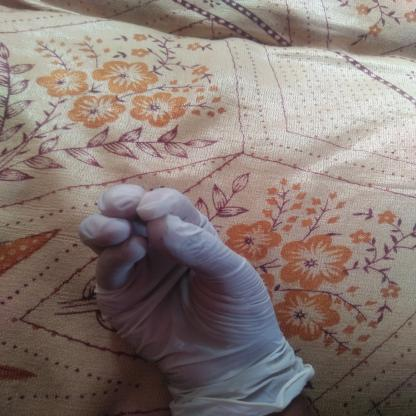gloved_hand: (74, 180, 315, 413)
